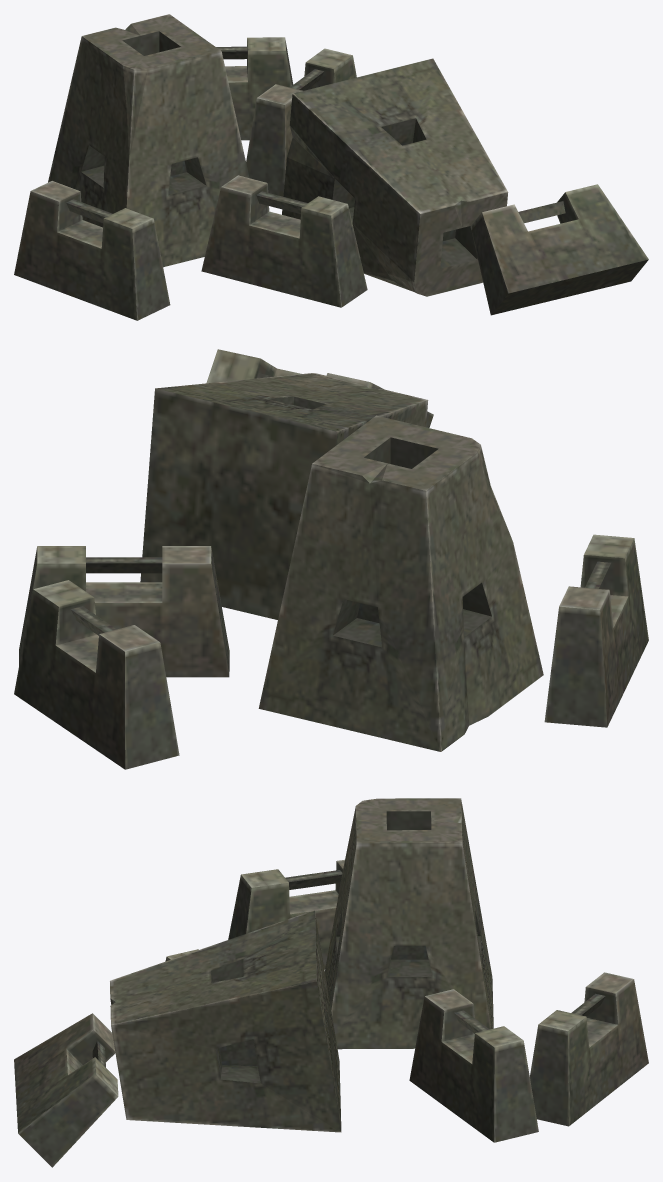
The model's file is 石墩堆01.fbx.
3 renders of one model, top to bottom at view 1: azimuth 30°, elevation 25°; view 2: azimuth 150°, elevation 25°; view 3: azimuth 270°, elevation 25°, orthographic. The views are drawn at different scales.
Visible parts, largest first — view 1: qingmo_obj_033 [10484201]; view 2: qingmo_obj_033 [10484201]; view 3: qingmo_obj_033 [10484201].
Part boxes in pixels (bbox=[...]): qingmo_obj_033 [10484201]: bbox=[14, 14, 648, 320]; qingmo_obj_033 [10484201]: bbox=[14, 349, 648, 769]; qingmo_obj_033 [10484201]: bbox=[14, 798, 648, 1167].
Size of the model in its own units: 16.28 by 18.95 by 6.34.
1 material, 1 textured.
